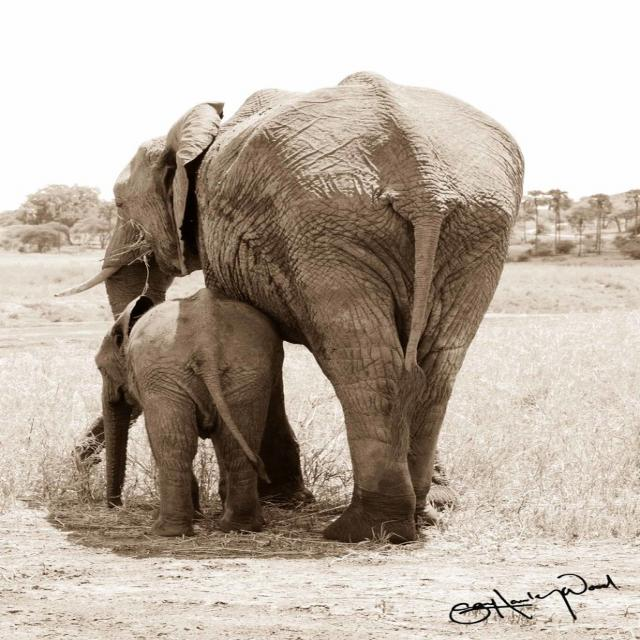elephant: (51, 68, 523, 540), (86, 288, 285, 542)
